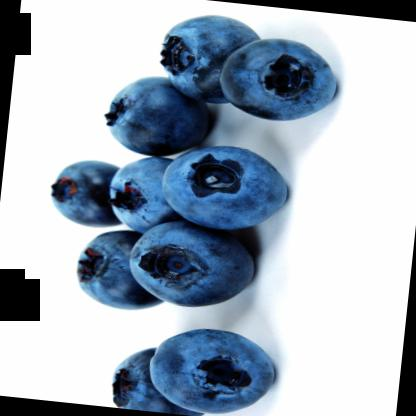blueberry: (125, 215, 260, 312), (164, 140, 298, 236), (148, 322, 281, 415), (216, 34, 344, 128), (154, 6, 264, 110), (99, 69, 219, 160), (72, 222, 174, 314), (107, 342, 214, 415), (107, 150, 191, 236), (50, 154, 136, 226)
